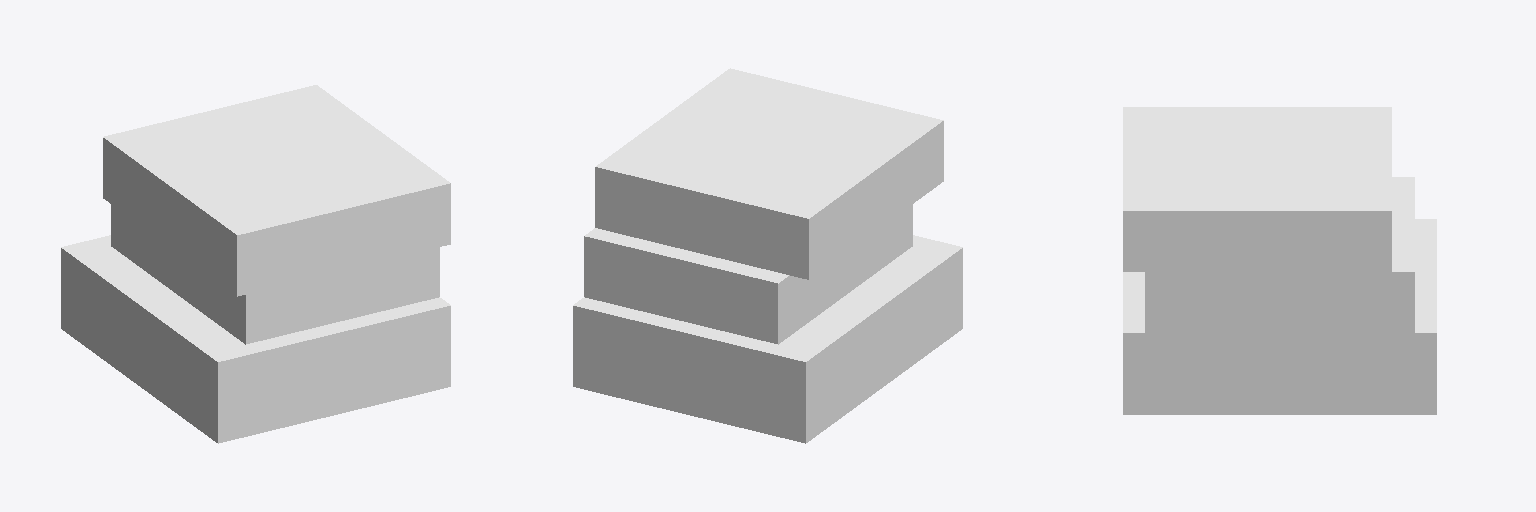
Rendered from Nha-5.obj.
3 views of the same model, side by side, from view 1: azimuth 30°, elevation 25°; view 2: azimuth 150°, elevation 25°; view 3: azimuth 270°, elevation 25° (orthographic).
Visible parts, largest first — view 1: object 1; view 2: object 1; view 3: object 1.
Boxes of the visible parts, box(x1,y1,x2,y2) form: object 1: box(61, 85, 450, 443); object 1: box(573, 68, 962, 443); object 1: box(1123, 107, 1436, 414).
Bounding box in the file's own units: 1.2 × 1 × 1.4.